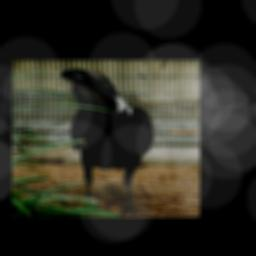Crow: (55, 68, 154, 216)
